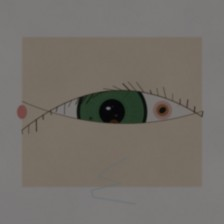foreign_body_visible: (102, 115, 126, 134)
